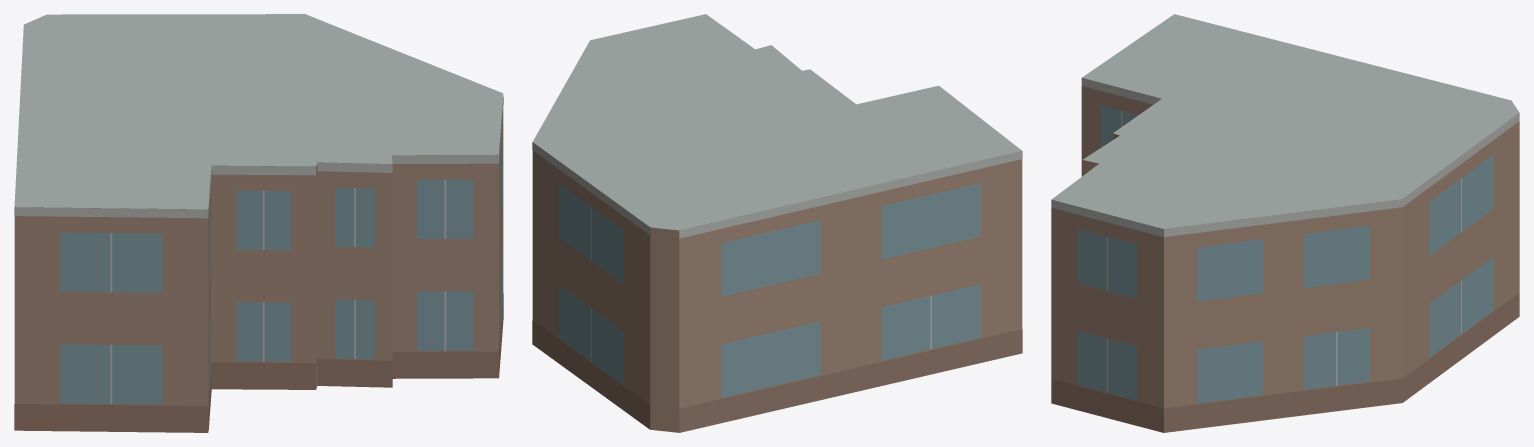
File: survey-upis-32649856.glb
The picture shows the model from 3 angles, left to right: view 1: azimuth 30°, elevation 25°; view 2: azimuth 150°, elevation 25°; view 3: azimuth 270°, elevation 25°; orthographic projection. The views are drawn at different scales.
Parts seen in each view (by area): view 1: survey-upis-32649856.tmp; view 2: survey-upis-32649856.tmp; view 3: survey-upis-32649856.tmp.
Part boxes in pixels (x1,y1,x2,y2): survey-upis-32649856.tmp: (14,14,503,432); survey-upis-32649856.tmp: (532,14,1022,432); survey-upis-32649856.tmp: (1051,14,1519,432).
Size of the model in its own units: 13.81 by 6.1 by 12.71.
